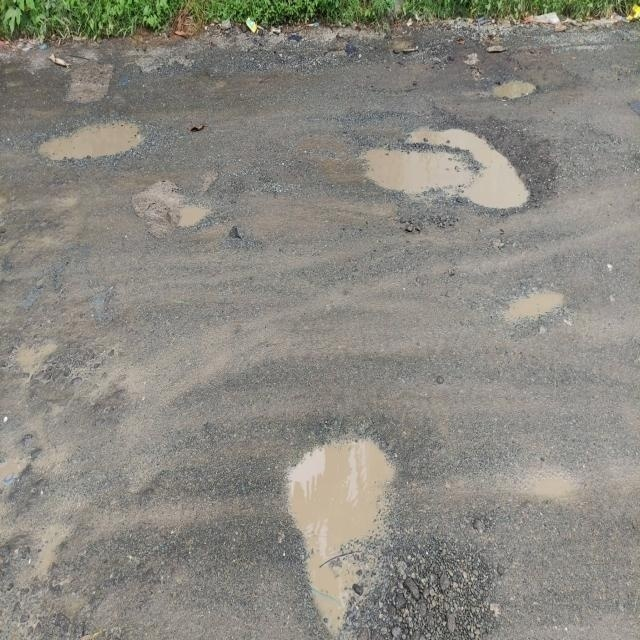pothole: (359, 100, 548, 254), (267, 453, 408, 620), (38, 108, 146, 186)
